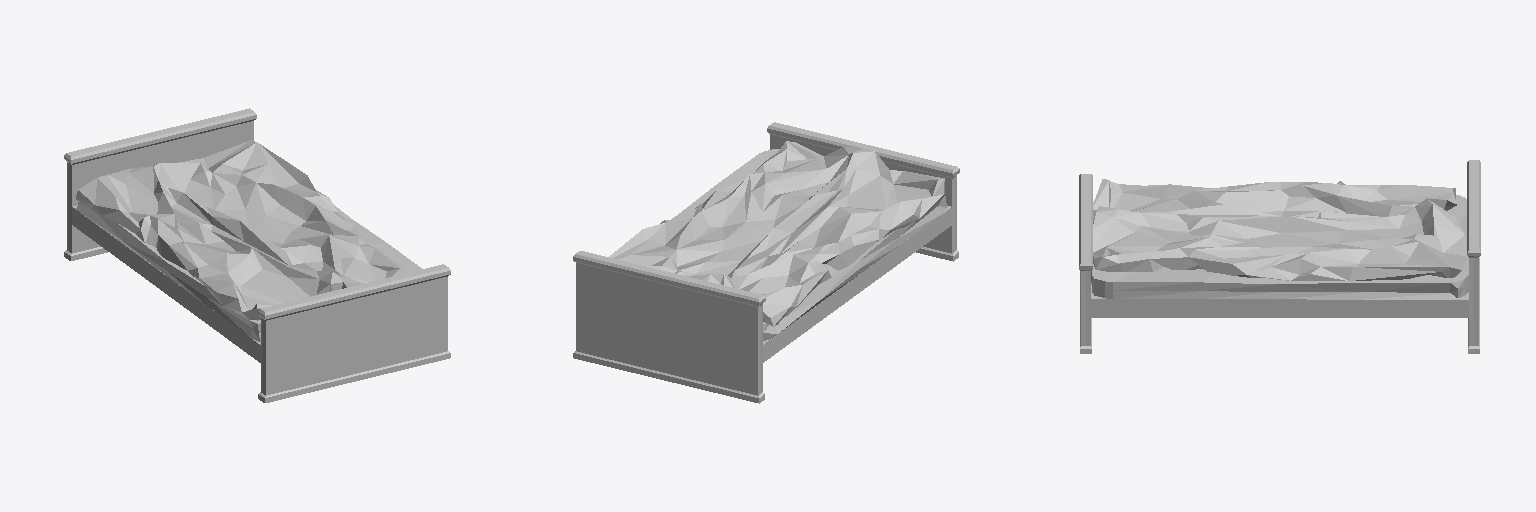
Rendered from Bed03a.obj.
The picture shows the model from 3 angles: view 1: azimuth 30°, elevation 25°; view 2: azimuth 150°, elevation 25°; view 3: azimuth 270°, elevation 25°; orthographic projection.
Parts seen in each view (by area): view 1: Bed03a_LOD0_Bed02_LOD0.010; view 2: Bed03a_LOD0_Bed02_LOD0.010; view 3: Bed03a_LOD0_Bed02_LOD0.010.
Part boxes in pixels (x1,y1,x2,y2): Bed03a_LOD0_Bed02_LOD0.010: (64, 108, 450, 402); Bed03a_LOD0_Bed02_LOD0.010: (573, 122, 959, 403); Bed03a_LOD0_Bed02_LOD0.010: (1079, 160, 1480, 353).
Size of the model in its own units: 1.17 by 0.6109 by 2.14.